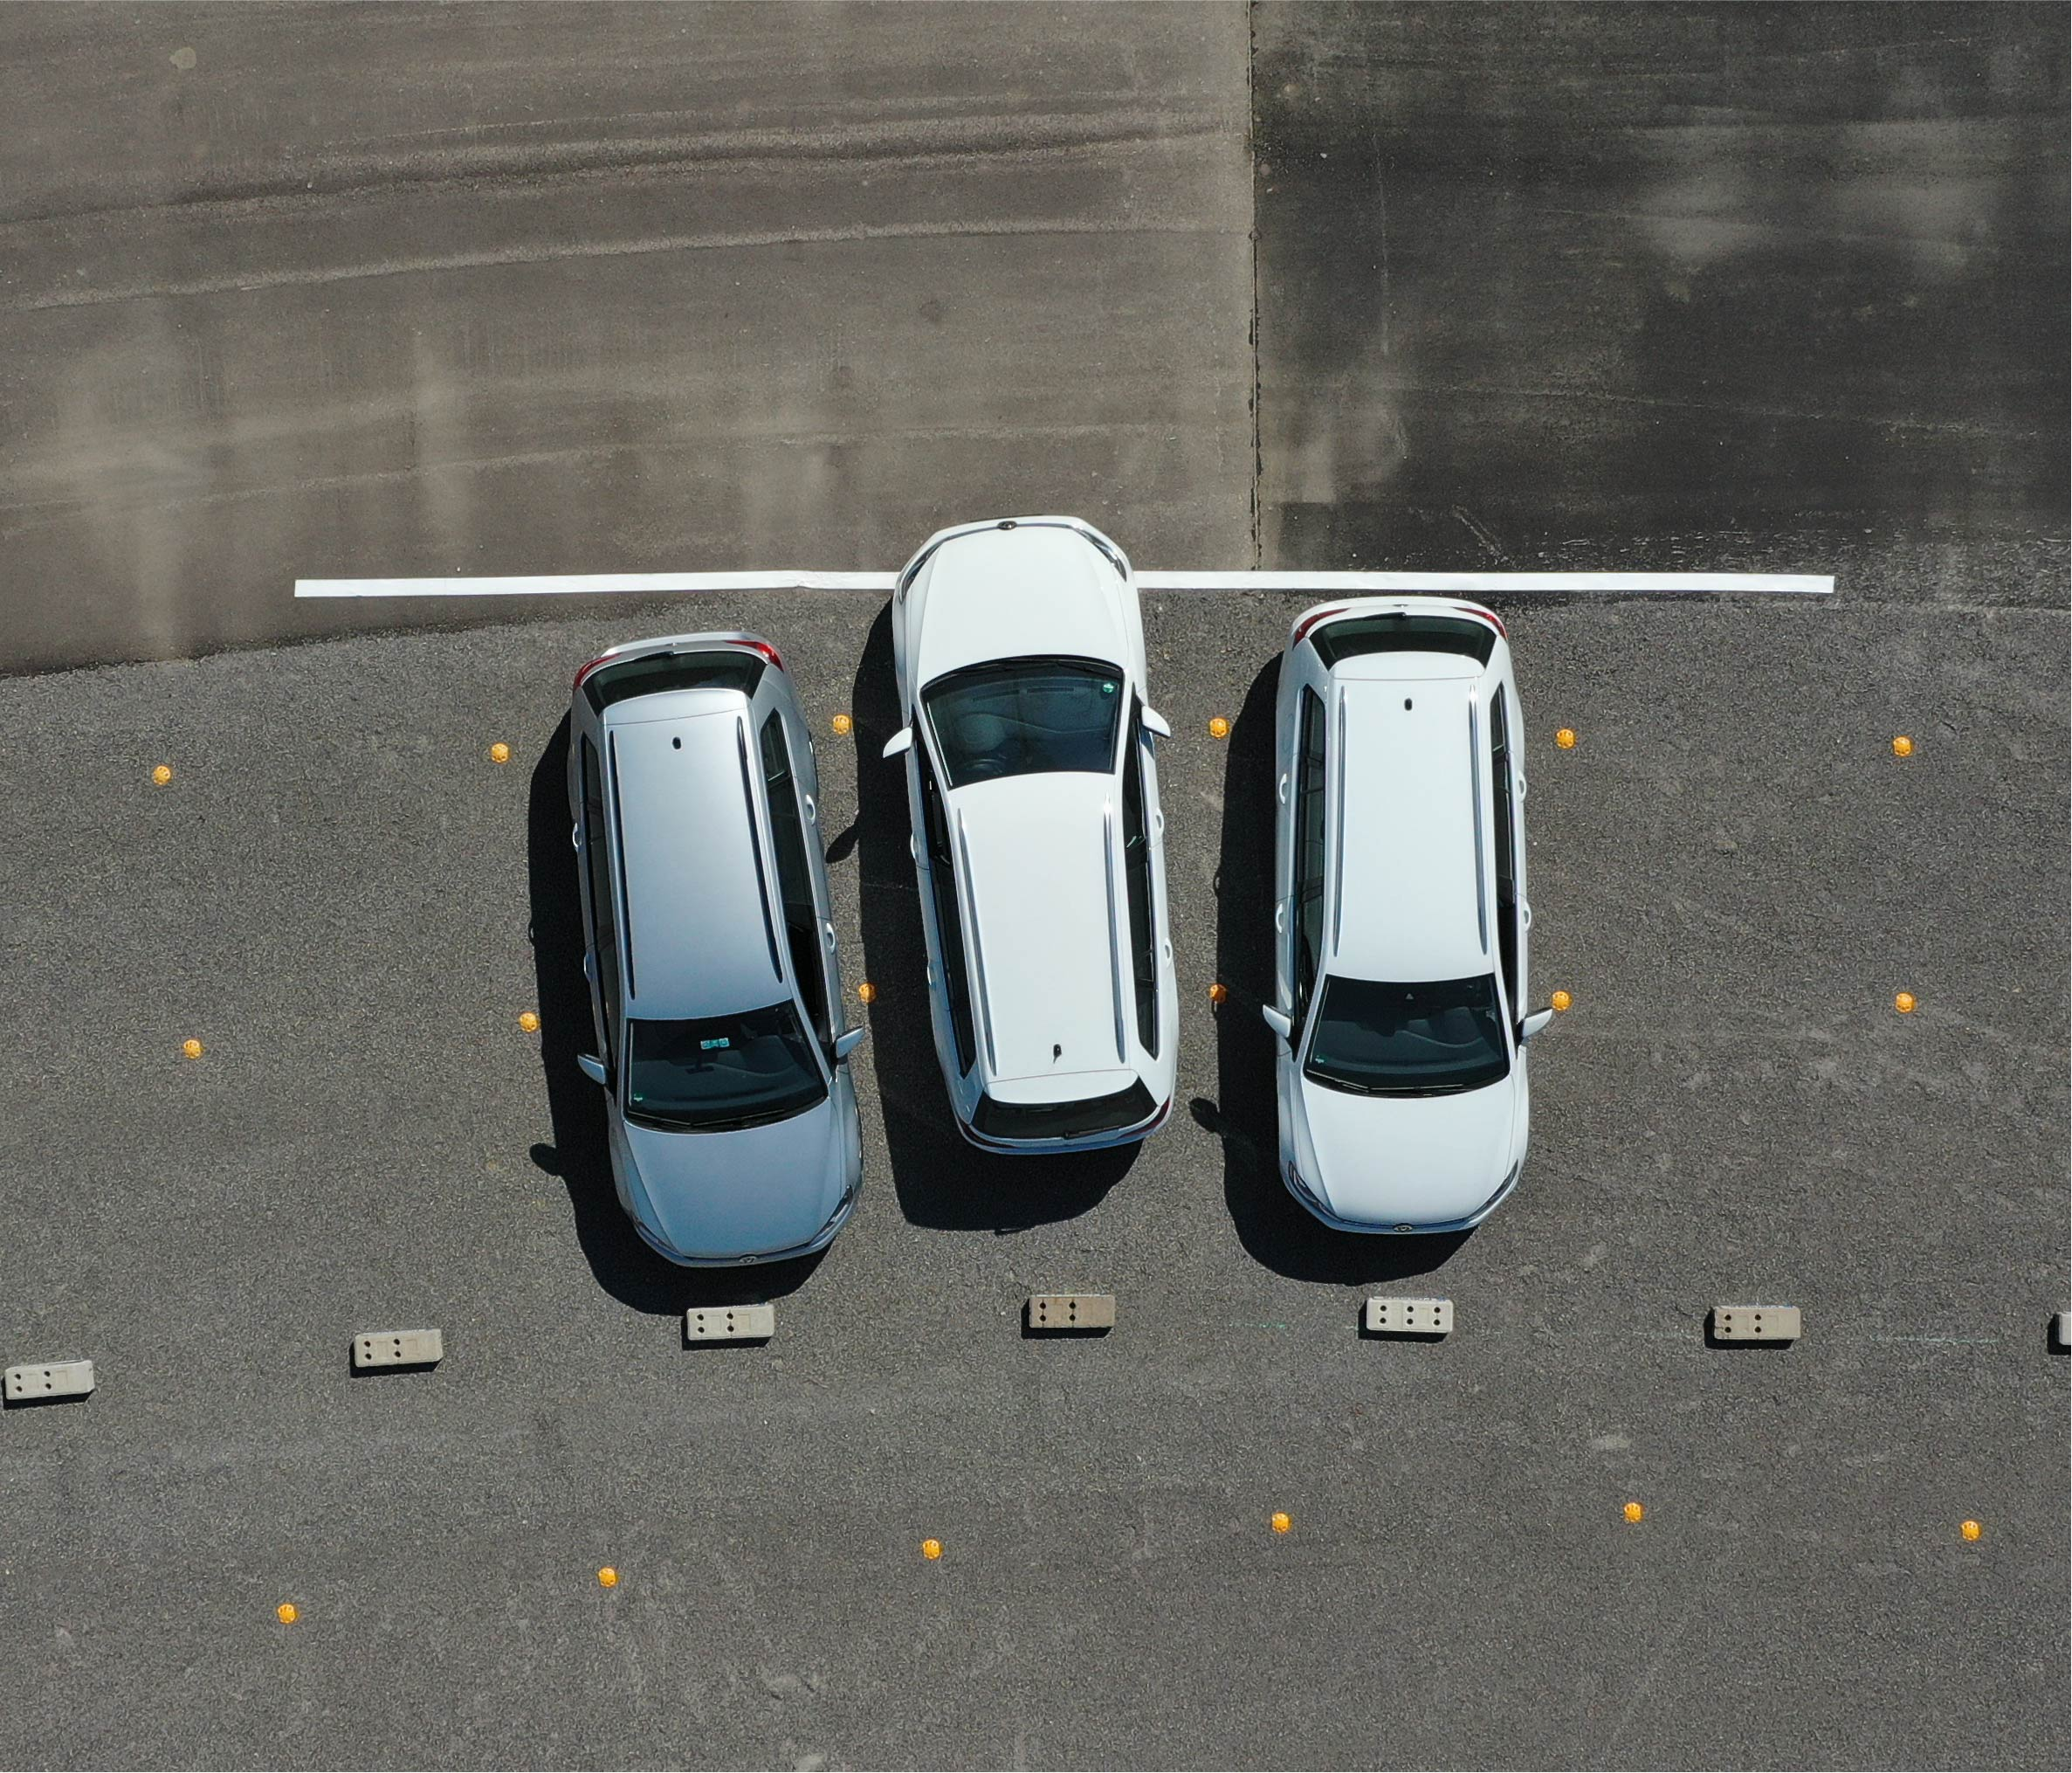Car: (540, 621, 886, 1300), (865, 505, 1194, 1173), (1254, 573, 1562, 1265)
LaneMark: (1149, 559, 1835, 607), (273, 556, 879, 607)
